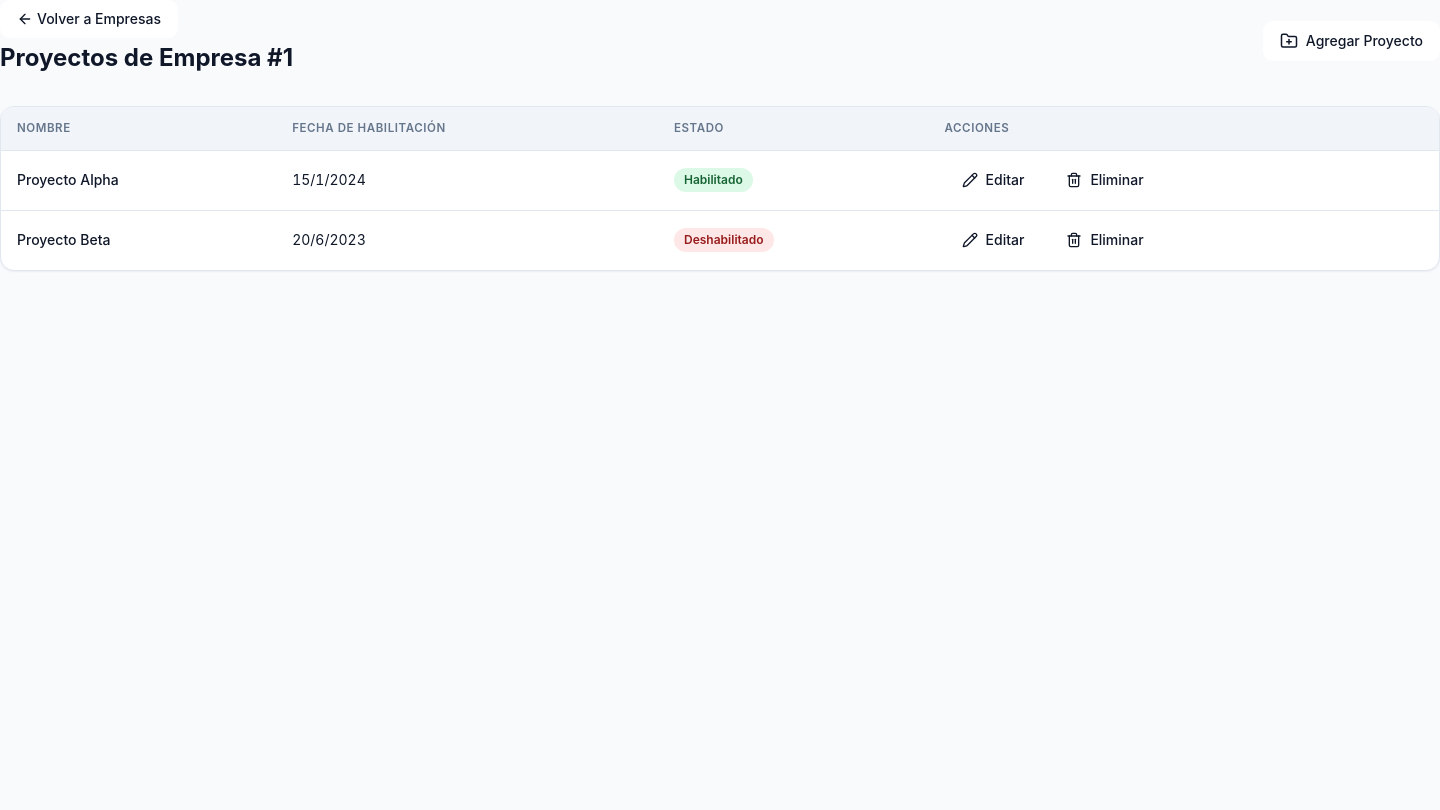
Test: ProyectosPage Integration Tests › Opens create modal › should open modal with title "Agregar Proyecto" and empty fields when clicking the button
Expected: the text "Proyecto Alpha" is shown, [1, 150, 276, 210]
Click the button "Agregar Proyecto" at (1351, 41), box [1263, 21, 1439, 61]
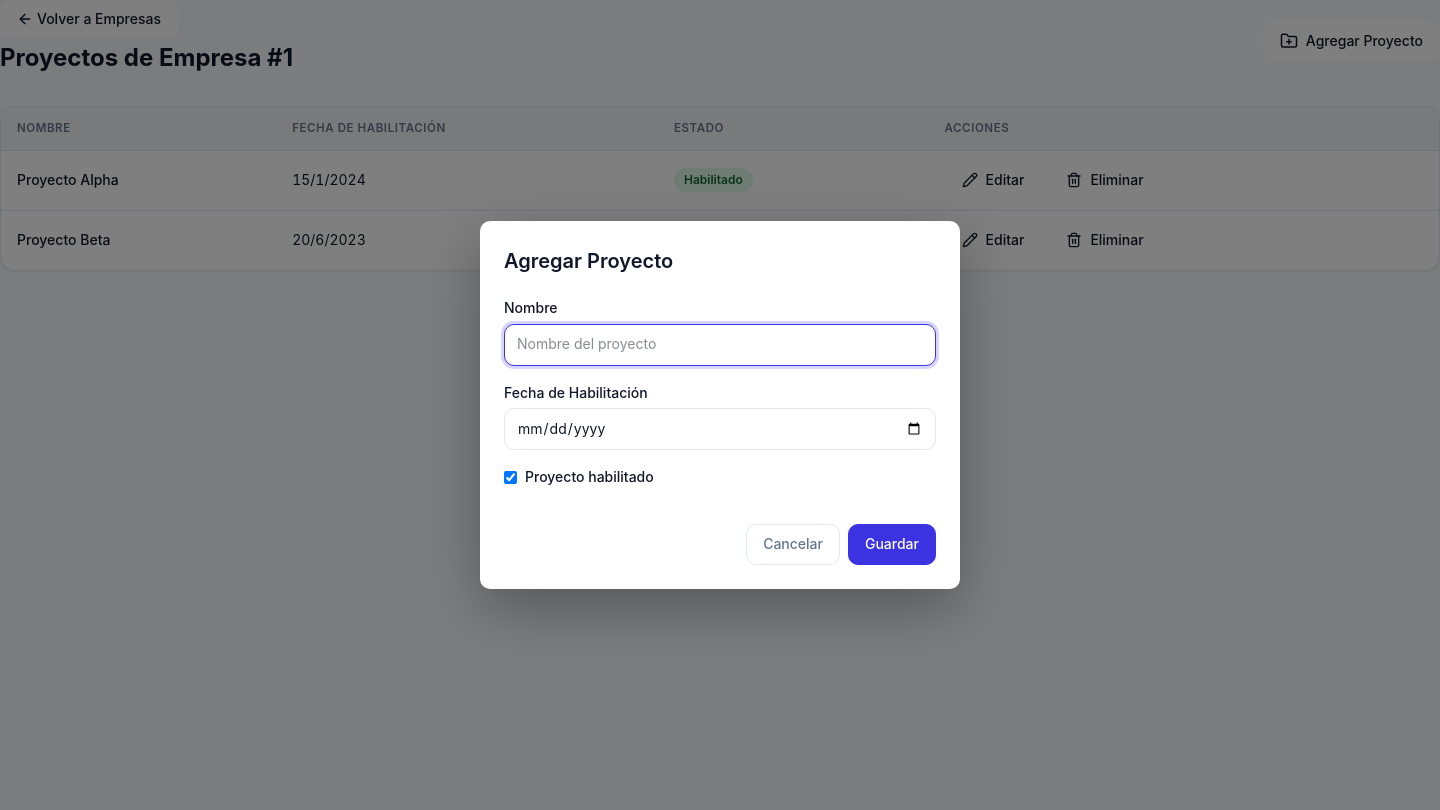
Result: the dialog is shown at [480, 221, 960, 589]
Result: the heading "Agregar Proyecto" is shown at [504, 249, 673, 273]
Result: the field labelled "Nombre" is empty at [504, 324, 936, 366]
